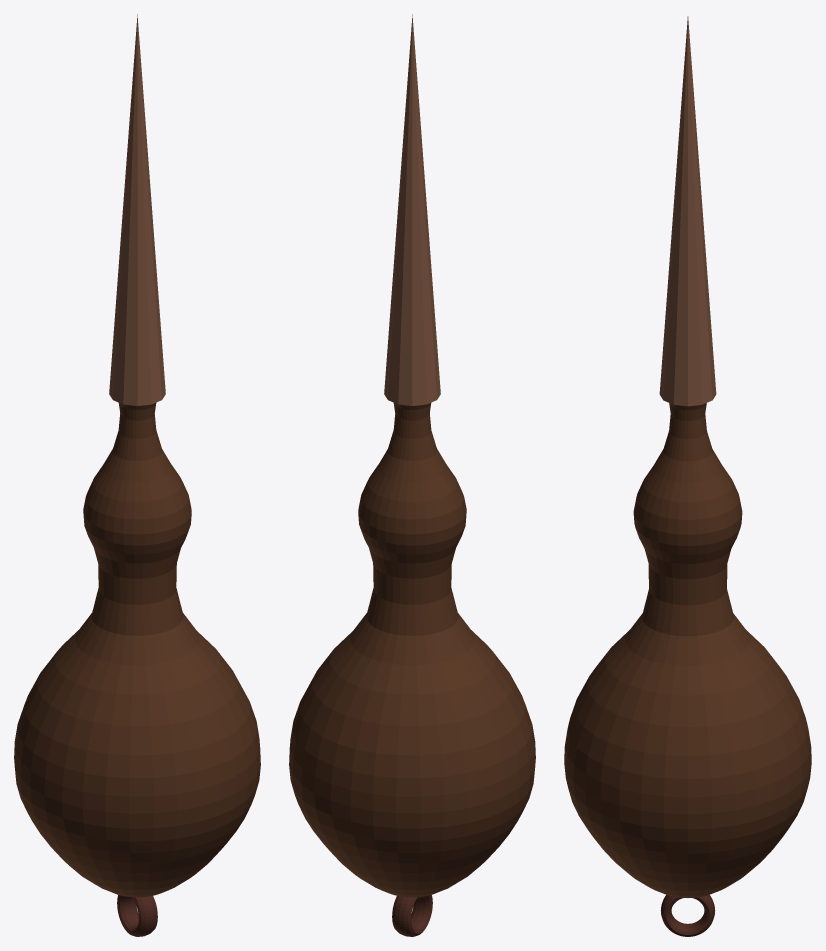
Rendered from Wand 621.glb.
The picture shows the model from 3 angles, left to right: view 1: azimuth 30°, elevation 25°; view 2: azimuth 150°, elevation 25°; view 3: azimuth 270°, elevation 25°; orthographic projection.
Visible parts, largest first — view 1: GeneratedWand; view 2: GeneratedWand; view 3: GeneratedWand.
Boxes of the visible parts, x1,y1,x2,y2 form: GeneratedWand: [14, 14, 260, 936]; GeneratedWand: [289, 14, 535, 936]; GeneratedWand: [564, 16, 811, 936].
Bounding box in the file's own units: 0.123 × 0.5048 × 0.123.
